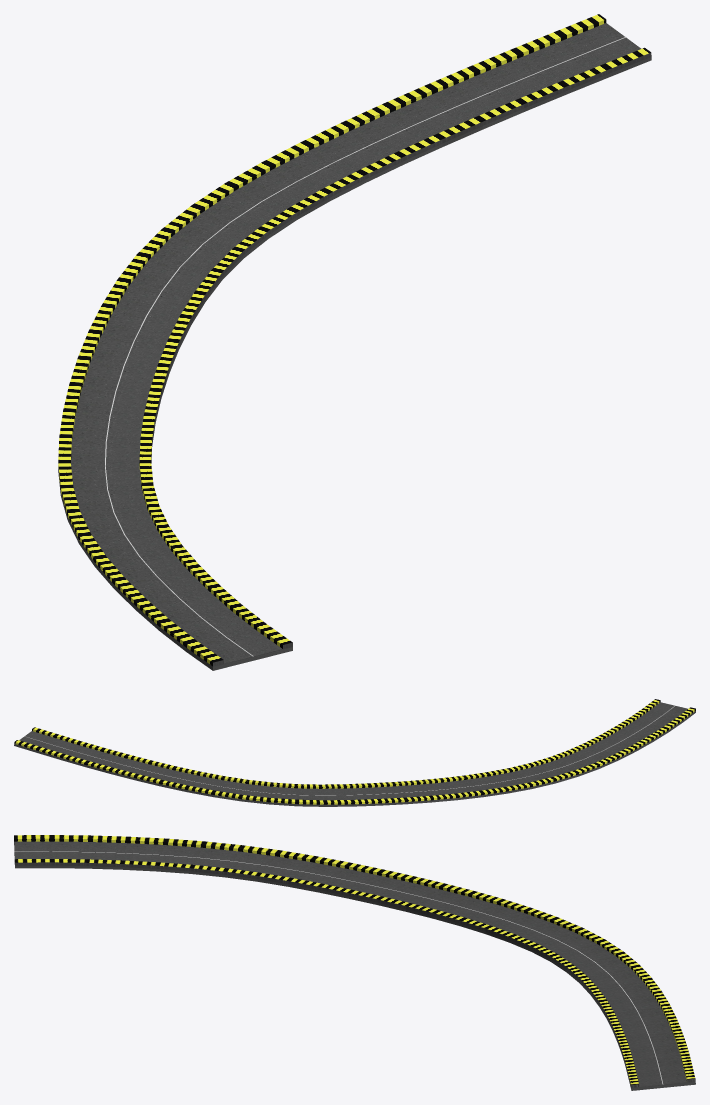
File: road-stunt.glb
3 views of the same model, one above another, from view 1: azimuth 30°, elevation 25°; view 2: azimuth 150°, elevation 25°; view 3: azimuth 270°, elevation 25° (orthographic). The views are drawn at different scales.
Parts seen in each view (by area): view 1: Cube; view 2: Cube; view 3: Cube.
Part boxes in pixels (bbox=[...]): Cube: bbox=[58, 14, 651, 670]; Cube: bbox=[14, 699, 695, 806]; Cube: bbox=[14, 835, 695, 1090].
Size of the model in its own units: 4176 by 390 by 4009.
3 materials, 2 textured.
